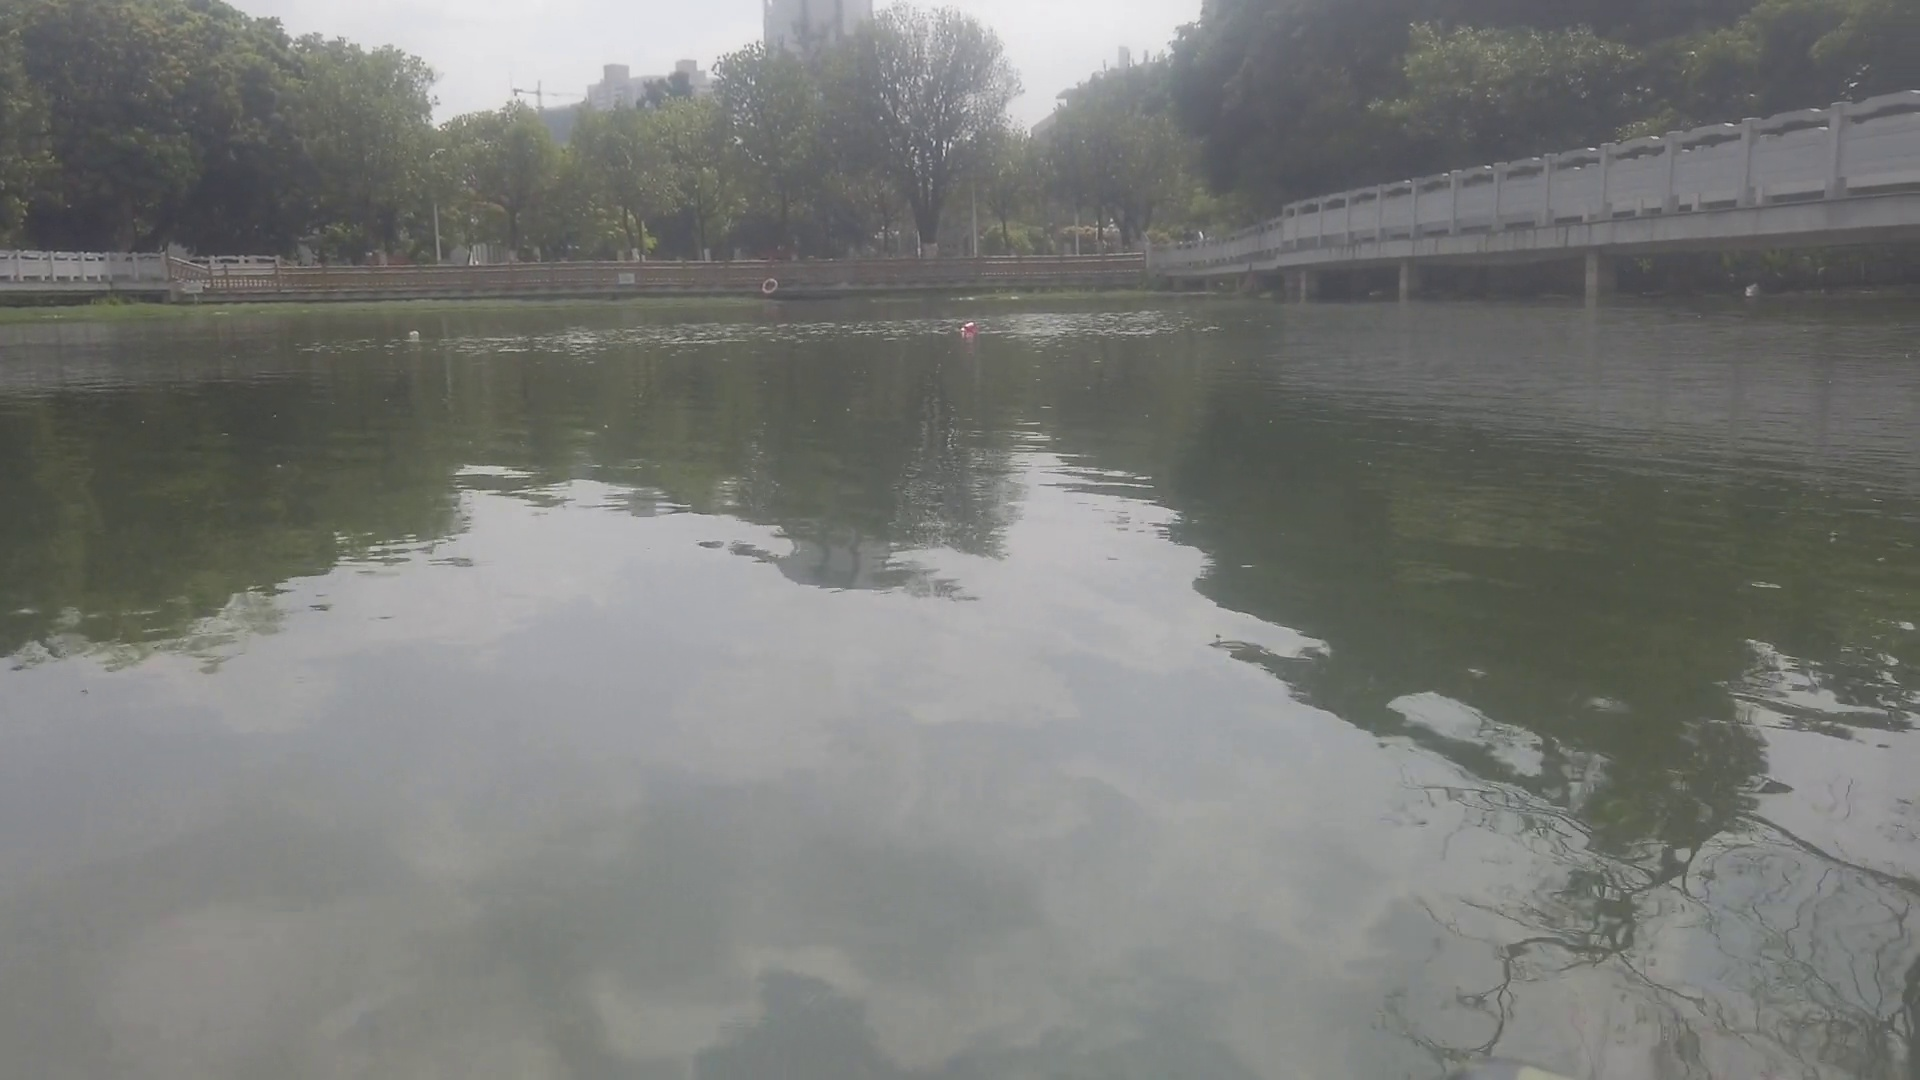bottle: (956, 316, 975, 338), (406, 326, 422, 340)
